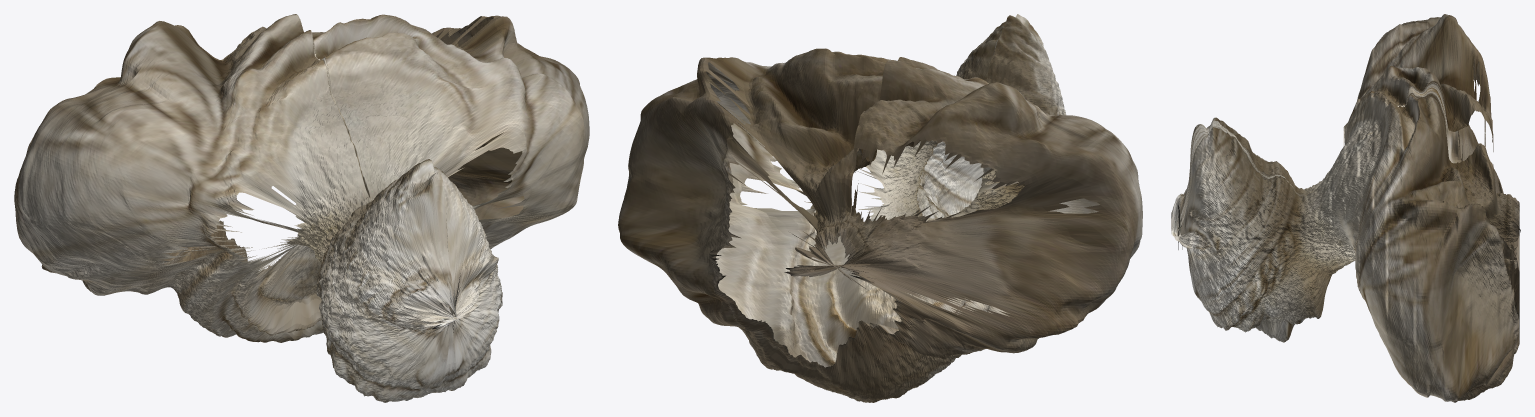
3 renders of one model, left to right at view 1: azimuth 30°, elevation 25°; view 2: azimuth 150°, elevation 25°; view 3: azimuth 270°, elevation 25°, orthographic. The views are drawn at different scales.
Parts seen in each view (by area): view 1: geometry_0; view 2: geometry_0; view 3: geometry_0.
Boxes of the visible parts, x1,y1,x2,y2 form: geometry_0: (14,14,589,402); geometry_0: (618,14,1142,402); geometry_0: (1171,14,1520,402).
Bounding box in the file's own units: 1.78 × 1.09 × 1.17.
Materials: 1 (1 with a texture image).
